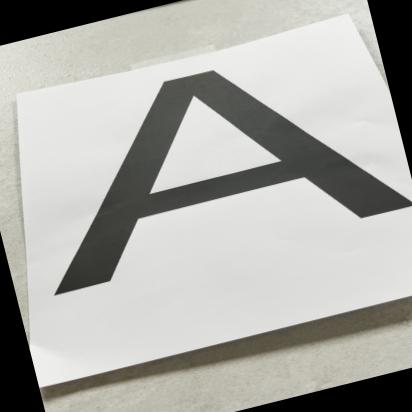seat: (0, 12, 412, 330)
